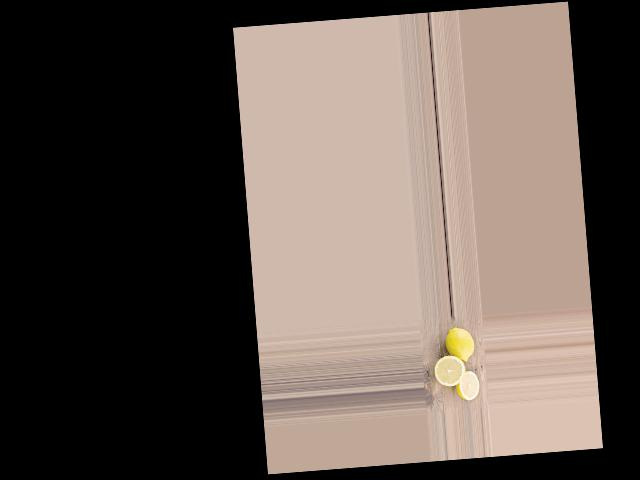lemon: (443, 327, 479, 363)
